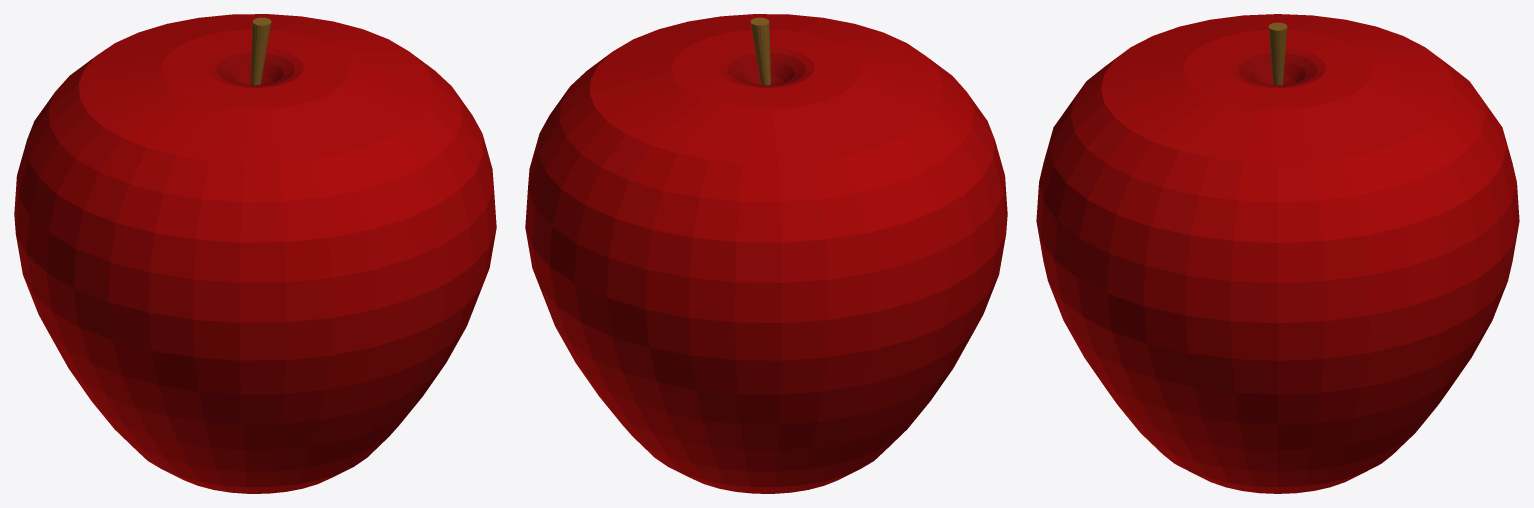
The model's file is manzana.fbx.
3 views of the same model, side by side, from view 1: azimuth 30°, elevation 25°; view 2: azimuth 150°, elevation 25°; view 3: azimuth 270°, elevation 25° (orthographic).
Visible parts, largest first — view 1: Manzana; view 2: Manzana; view 3: Manzana.
Boxes of the visible parts, x1,y1,x2,y2 form: Manzana: [14, 14, 496, 493]; Manzana: [525, 14, 1007, 493]; Manzana: [1036, 14, 1519, 493].
Size of the model in its own units: 195 by 199 by 195.
1 material, 1 textured.
